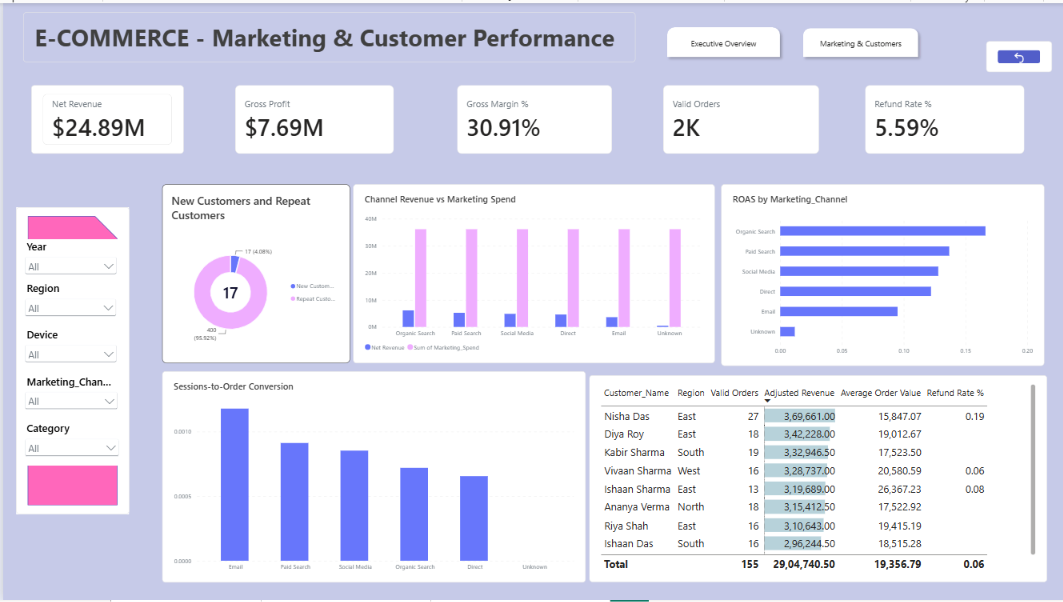

The page's visual inventory and layout, read from the dashboard file:
{"tool":"powerbi","page":{"name":"Marketing & Customers","canvas":[1920,1080],"ordinal":1},"visuals":[{"type":"shape","box":[24.3,370,204.5,555.6],"z":0,"group":"g3"},{"type":"clusteredColumnChart","title":"Channel Revenue vs Marketing Spend","fields":{"Category":["EcomOrdersTable.Marketing_Channel"],"Y":["_Measures.Net Revenue","Sum(CampaignPerformanceTable.Marketing_Spend)"]},"box":[634,328,654,324],"z":1000},{"type":"slicer","fields":{"Values":["Dim_Date.Date.Variation.Date Hierarchy.Year"]},"box":[36.8,428.3,176,68],"z":1000,"group":"g1"},{"type":"barChart","fields":{"Y":["_Measures.ROAS"],"Category":["EcomOrdersTable.Marketing_Channel"]},"box":[1300,328,585.1,329.1],"z":3000},{"type":"clusteredColumnChart","title":"Sessions-to-Order Conversion","fields":{"Category":["EcomOrdersTable.Marketing_Channel"],"Y":["_Measures.Order Conversion Rate %"]},"box":[288,666,766,382],"z":4000},{"type":"donutChart","fields":{"Y":["_Measures.New Customers","_Measures.Repeat Customers"]},"box":[288,328,340,324],"z":5000},{"type":"tableEx","fields":{"Values":["EcomCustomerTable.Customer_Name","EcomCustomerTable.Region","_Measures.Valid Orders","_Measures.Adjusted Revenue","_Measures.Average Order Value","_Measures.Refund Rate %"]},"box":[1060.5,673.2,828.8,374.6],"z":6000},{"type":"cardVisual","fields":{"Data":["_Measures.Net Revenue"]},"box":[50.7,148.5,276,124],"z":7000},{"type":"slicer","fields":{"Values":["EcomCustomerTable.Region"]},"box":[36,503.4,175.6,77.8],"z":7000,"group":"g1"},{"type":"cardVisual","fields":{"Data":["_Measures.Gross Profit"]},"box":[420.6,148.1,287.7,124.9],"z":8000},{"type":"slicer","fields":{"Values":["EcomOrdersTable.Device"]},"box":[36,588.3,176,78],"z":8000,"group":"g1"},{"type":"cardVisual","fields":{"Data":["_Measures.Gross Margin %"]},"box":[820.7,148.5,280,124],"z":9000},{"type":"slicer","fields":{"Values":["EcomOrdersTable.Marketing_Channel"]},"box":[36,673.4,177.8,77.8],"z":9000,"group":"g1"},{"type":"cardVisual","fields":{"Data":["_Measures.Valid Orders"]},"box":[1194.7,148.5,282,124],"z":10000},{"type":"slicer","fields":{"Values":["EcomProductTable.Category"]},"box":[36,758.3,180,78],"z":10000,"group":"g1"},{"type":"cardVisual","fields":{"Data":["_Measures.Refund Rate %"]},"box":[1560.7,148.5,288,124],"z":11000},{"type":"group","id":"g1","title":"Group 1","box":[36,428.3,180,408],"z":11000,"group":"g3"},{"type":"actionButton","box":[1438,36,226,70],"z":12000,"group":"g2"},{"type":"actionButton","box":[1192,34,222,72],"z":13000,"group":"g2"},{"type":"actionButton","box":[1798,68,100,40],"z":14000},{"type":"textbox","box":[36,16,1108,90],"z":14001},{"type":"group","id":"g2","title":"Group 3","box":[1192,34,472,72],"z":14002},{"type":"group","id":"g3","title":"Group 2","box":[24.3,370,204.5,555.6],"z":14003}]}

Visuals, with their boxes in screenshot pixels (x1, y1, x2, y2), scaled from the page's 1920x1080 canvas onto the 1063x602 screenshot:
shape: BBox(13, 206, 127, 516)
"Channel Revenue vs Marketing Spend" clusteredColumnChart: BBox(351, 183, 713, 363)
slicer - Dim_Date.Date.Variation.Date Hierarchy.Year: BBox(20, 239, 118, 277)
barChart - _Measures.ROAS x EcomOrdersTable.Marketing_Channel: BBox(720, 183, 1044, 366)
"Sessions-to-Order Conversion" clusteredColumnChart: BBox(159, 371, 584, 584)
donutChart - _Measures.New Customers x _Measures.Repeat Customers: BBox(159, 183, 348, 363)
tableEx - EcomCustomerTable.Customer_Name x EcomCustomerTable.Region: BBox(587, 375, 1046, 584)
cardVisual - _Measures.Net Revenue: BBox(28, 83, 181, 152)
slicer - EcomCustomerTable.Region: BBox(20, 281, 117, 324)
cardVisual - _Measures.Gross Profit: BBox(233, 83, 392, 152)
slicer - EcomOrdersTable.Device: BBox(20, 328, 117, 371)
cardVisual - _Measures.Gross Margin %: BBox(454, 83, 609, 152)
slicer - EcomOrdersTable.Marketing_Channel: BBox(20, 375, 118, 419)
cardVisual - _Measures.Valid Orders: BBox(661, 83, 818, 152)
slicer - EcomProductTable.Category: BBox(20, 423, 120, 466)
cardVisual - _Measures.Refund Rate %: BBox(864, 83, 1024, 152)
"Group 1" group: BBox(20, 239, 120, 466)
actionButton: BBox(796, 20, 921, 59)
actionButton: BBox(660, 19, 783, 59)
actionButton: BBox(995, 38, 1051, 60)
textbox: BBox(20, 9, 633, 59)
"Group 3" group: BBox(660, 19, 921, 59)
"Group 2" group: BBox(13, 206, 127, 516)
